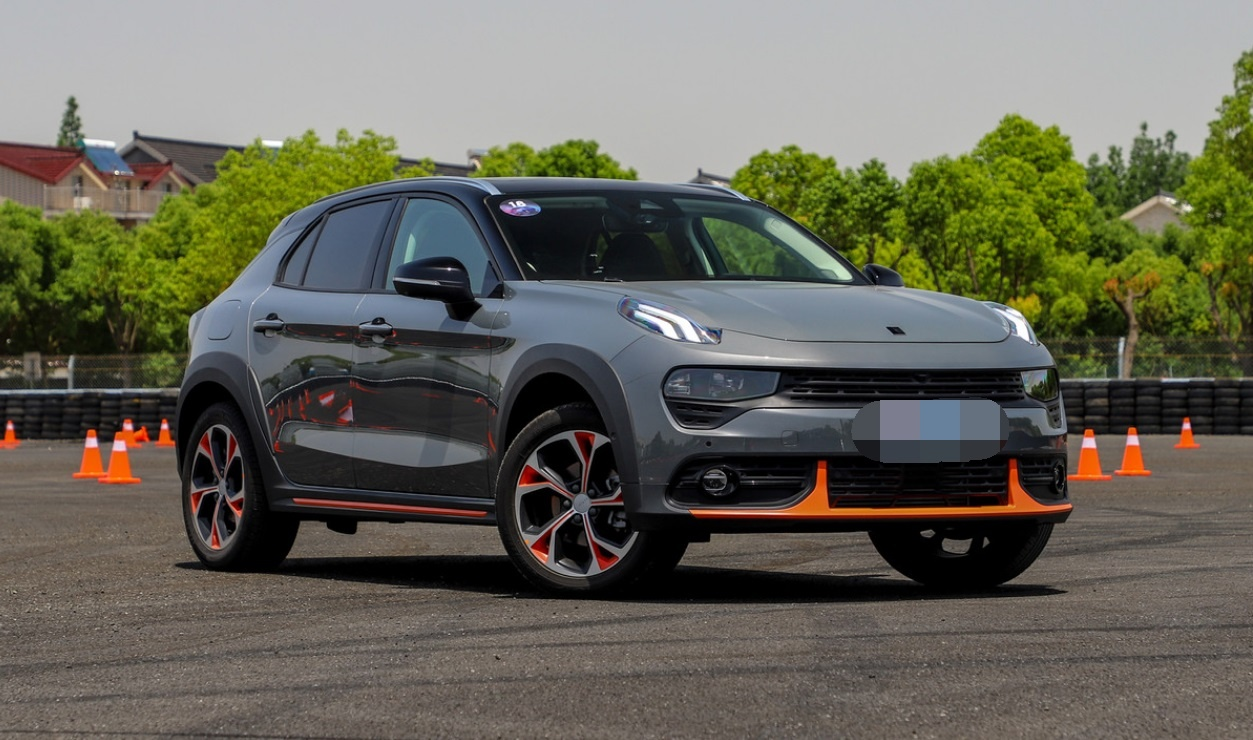SUV: (162, 143, 1091, 612)
